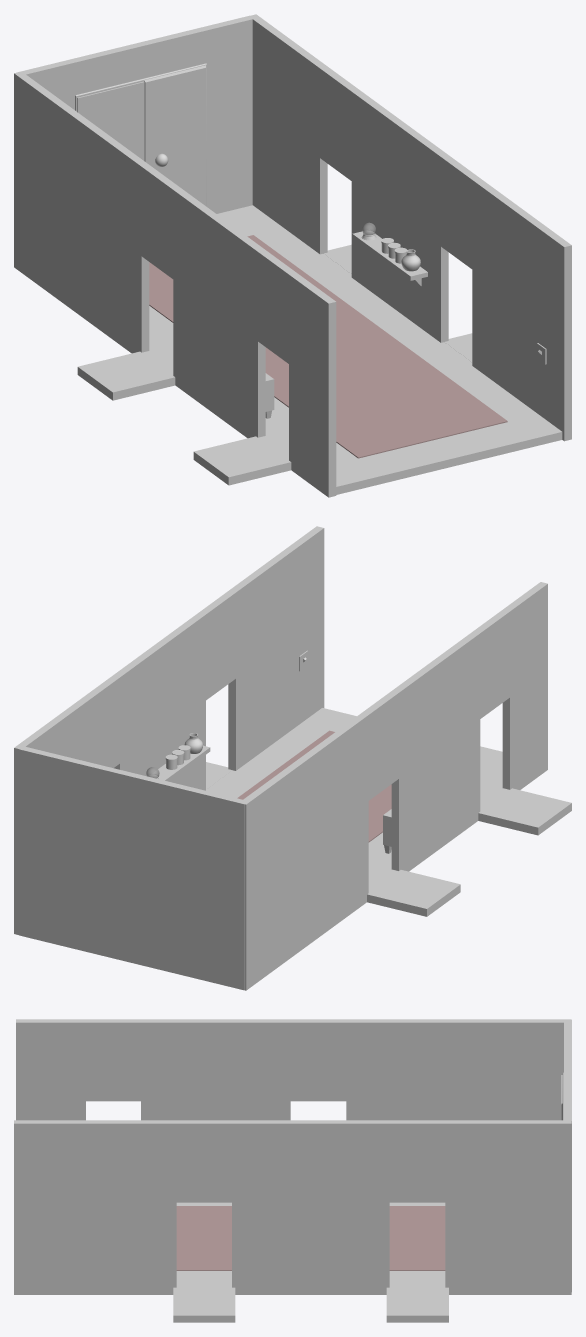
File: Hallway.fbx
The picture shows the model from 3 angles, top to bottom: view 1: azimuth 30°, elevation 25°; view 2: azimuth 150°, elevation 25°; view 3: azimuth 270°, elevation 25°; orthographic projection. The views are drawn at different scales.
Visible parts, largest first — view 1: pCube2, pCube3, pCube1, pCube5, pCube4, pCube11, pCube16, pCube15, pCube12; view 2: pCube2, pCube4, pCube3, pCube1, pCube16, pCube15, pCube5; view 3: pCube3, pCube2, pCube5, pCube17, pCube18, pCube1, pCube4.
Boxes of the visible parts, bbox=[...] form: pCube2: bbox=[14, 71, 336, 497]; pCube3: bbox=[249, 14, 571, 441]; pCube1: bbox=[148, 205, 562, 494]; pCube5: bbox=[149, 235, 507, 458]; pCube4: bbox=[18, 15, 252, 213]; pCube11: bbox=[75, 63, 206, 206]; pCube16: bbox=[77, 351, 175, 400]; pCube15: bbox=[193, 436, 291, 485]; pCube12: bbox=[352, 231, 427, 280]; pCube2: bbox=[239, 582, 547, 990]; pCube4: bbox=[19, 746, 247, 990]; pCube3: bbox=[14, 526, 324, 934]; pCube1: bbox=[206, 708, 503, 886]; pCube16: bbox=[367, 870, 460, 916]; pCube15: bbox=[478, 788, 571, 835]; pCube5: bbox=[237, 730, 391, 842]; pCube3: bbox=[14, 1120, 571, 1294]; pCube2: bbox=[16, 1019, 571, 1120]; pCube5: bbox=[176, 1206, 445, 1270]; pCube17: bbox=[386, 1286, 448, 1322]; pCube18: bbox=[173, 1286, 235, 1322]; pCube1: bbox=[176, 1202, 445, 1285]; pCube4: bbox=[564, 1020, 571, 1291].
Bounding box in the file's own units: 10.37 × 5.21 × 15.38.
